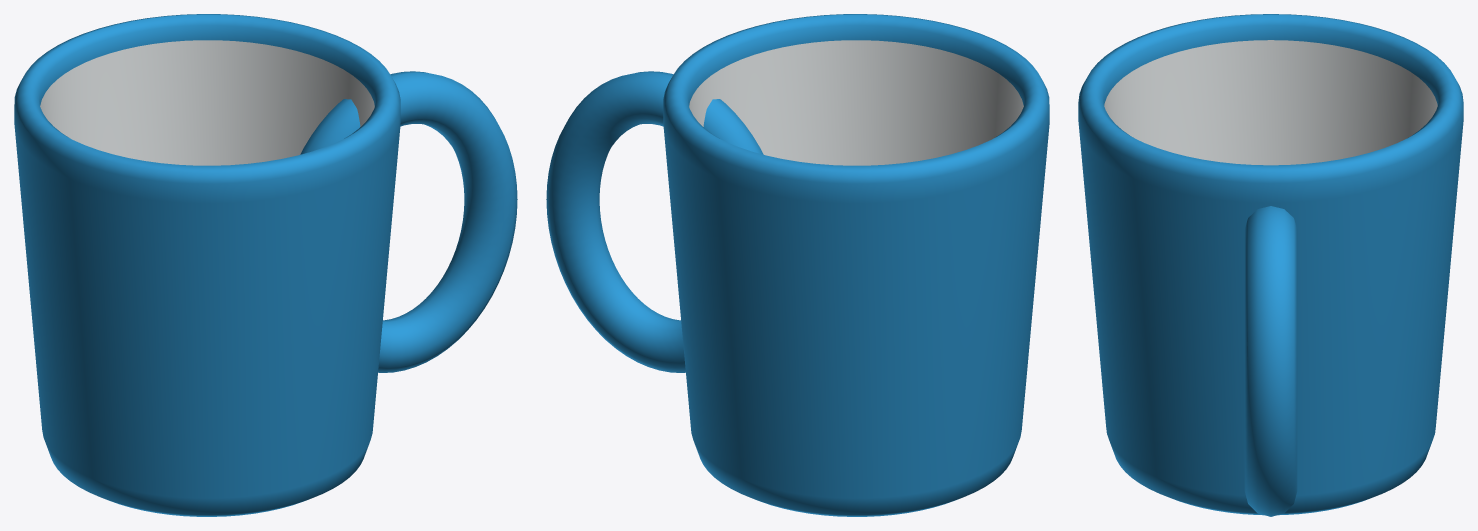
Rendered from cup.glb.
3 views of the same model, side by side, from view 1: azimuth 30°, elevation 25°; view 2: azimuth 150°, elevation 25°; view 3: azimuth 270°, elevation 25° (orthographic).
Visible parts, largest first — view 1: CupBody, CupInterior, CupHandle; view 2: CupBody, CupInterior, CupHandle; view 3: CupBody, CupInterior, CupHandle.
Part boxes in pixels (bbox=[...]): CupBody: bbox=[14, 14, 400, 516]; CupInterior: bbox=[40, 40, 374, 165]; CupHandle: bbox=[300, 71, 517, 372]; CupBody: bbox=[663, 14, 1049, 516]; CupInterior: bbox=[689, 40, 1023, 165]; CupHandle: bbox=[546, 71, 763, 372]; CupBody: bbox=[1078, 14, 1463, 515]; CupInterior: bbox=[1104, 40, 1437, 165]; CupHandle: bbox=[1244, 206, 1297, 516].
Bounding box in the file's own units: 0.453 × 0.334 × 0.32.
